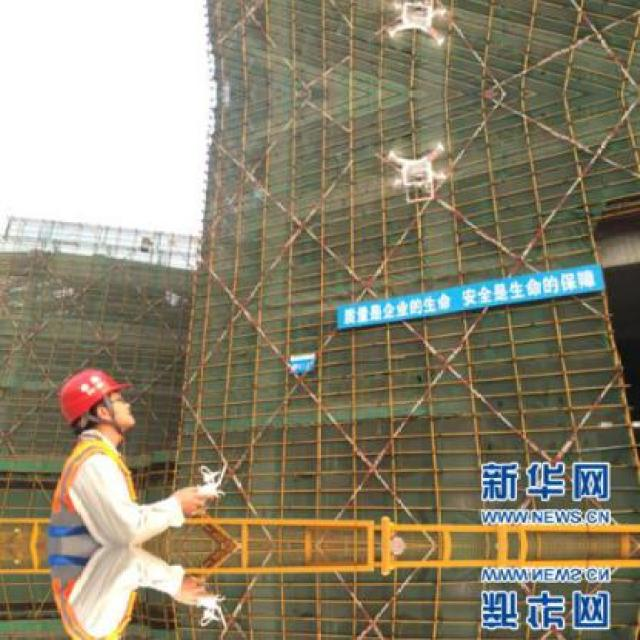helmet: (50, 364, 141, 444)
